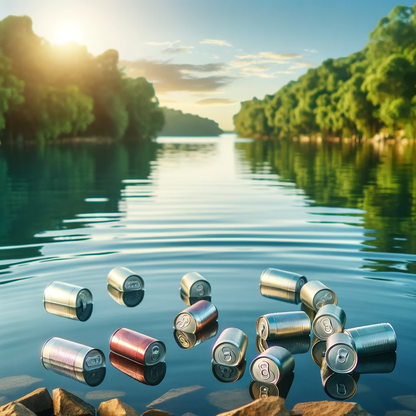can: (34, 333, 106, 378), (108, 326, 169, 369), (248, 342, 299, 389), (247, 305, 315, 338), (339, 321, 404, 352), (253, 259, 305, 296), (38, 277, 94, 311), (317, 333, 363, 373), (175, 296, 218, 338), (213, 323, 250, 368), (312, 299, 349, 338), (299, 278, 340, 310), (107, 264, 147, 294), (183, 267, 210, 299)
